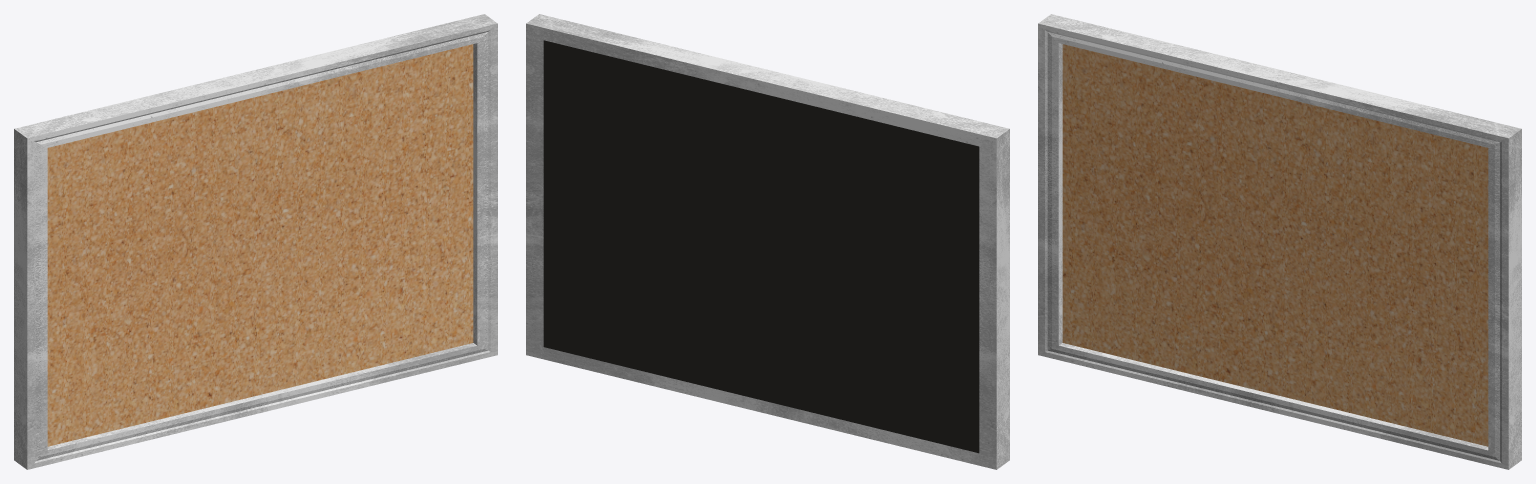
The model's file is Corkboard 4.fbx.
3 renders of one model, left to right at view 1: azimuth 30°, elevation 25°; view 2: azimuth 150°, elevation 25°; view 3: azimuth 330°, elevation 25°, orthographic.
Visible parts, largest first — view 1: Plane.006; view 2: Plane.006; view 3: Plane.006.
Part boxes in pixels (x1,y1,x2,y2): Plane.006: [14, 14, 497, 469]; Plane.006: [526, 14, 1009, 469]; Plane.006: [1038, 14, 1521, 469].
Size of the model in its own units: 102 by 68.54 by 4.92.
